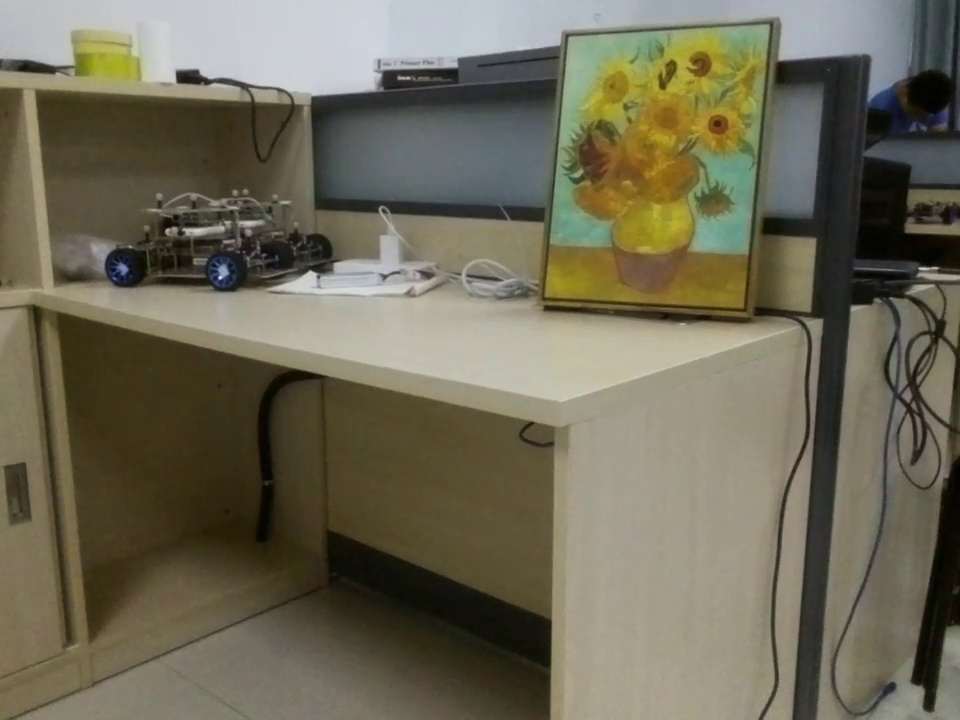painting: (550, 29, 783, 319)
